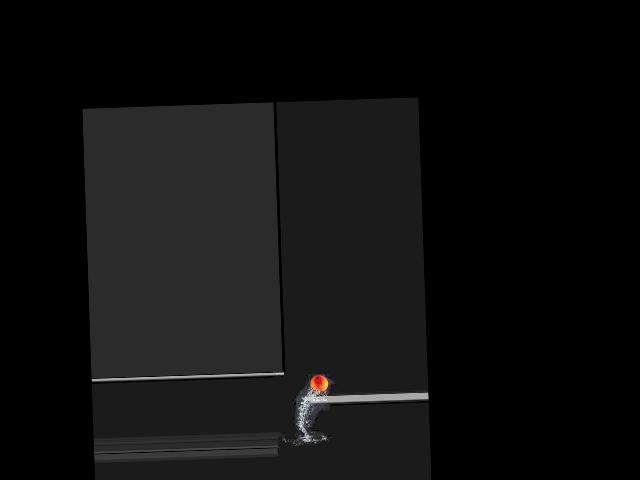tomato: (310, 375, 328, 391)
